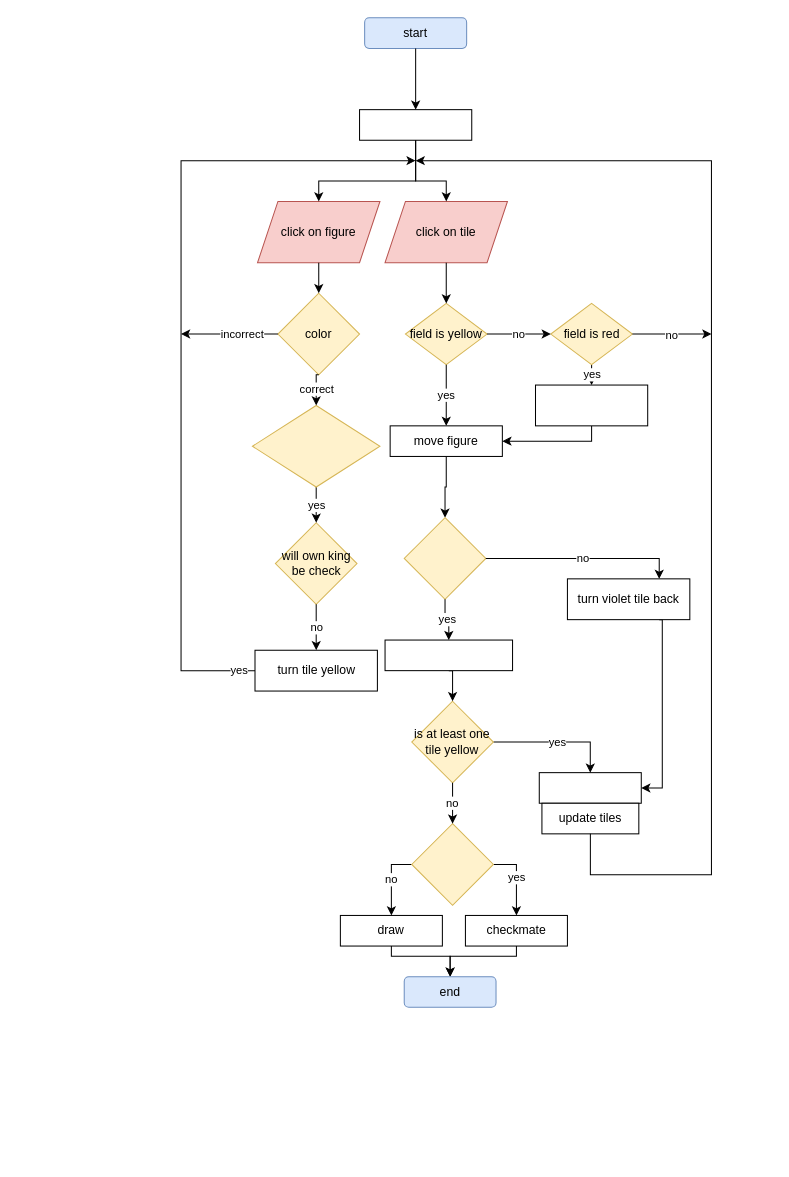
Some shapes in this 789 by 1177 pixel diagram are drawn without their labels. The shapes that lost their labels are listed below. From the top down, each one's centre as x and y in pixels, then its label:
At (415,124): "setup figures".
At (591,405): "kill opponent".
At (315,445): "inside movementoptions".
At (444,558): "opposition check".
At (448,655): "turn king tile violet".
At (589,787): "add turn".
At (452,864): "is own king check".
